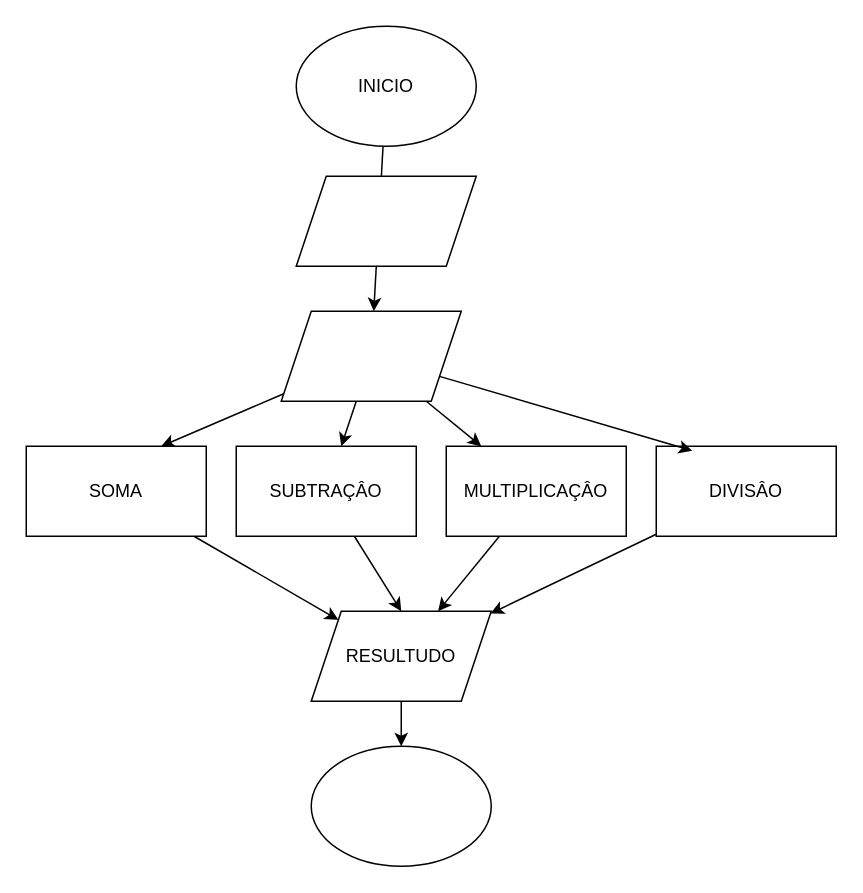
This 863x893 diagram has some shape labels left out. Here are the shapes that lost their labels. From the top down, the box of each, then its label:
(295, 175, 476, 266): NUMERO 1
(280, 310, 461, 401): NUMERO 2
(310, 745, 491, 866): FIM
